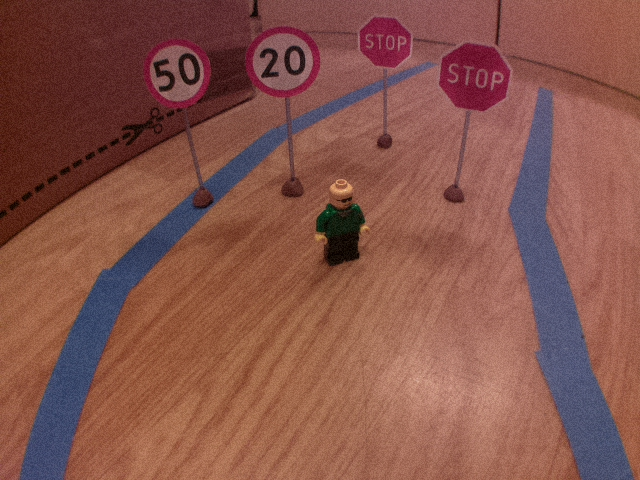LEGO_person: (310, 176, 370, 270)
ogr_20: (240, 22, 326, 99)
ogr_50: (139, 37, 216, 113)
stop: (433, 38, 515, 118), (355, 12, 416, 74)
